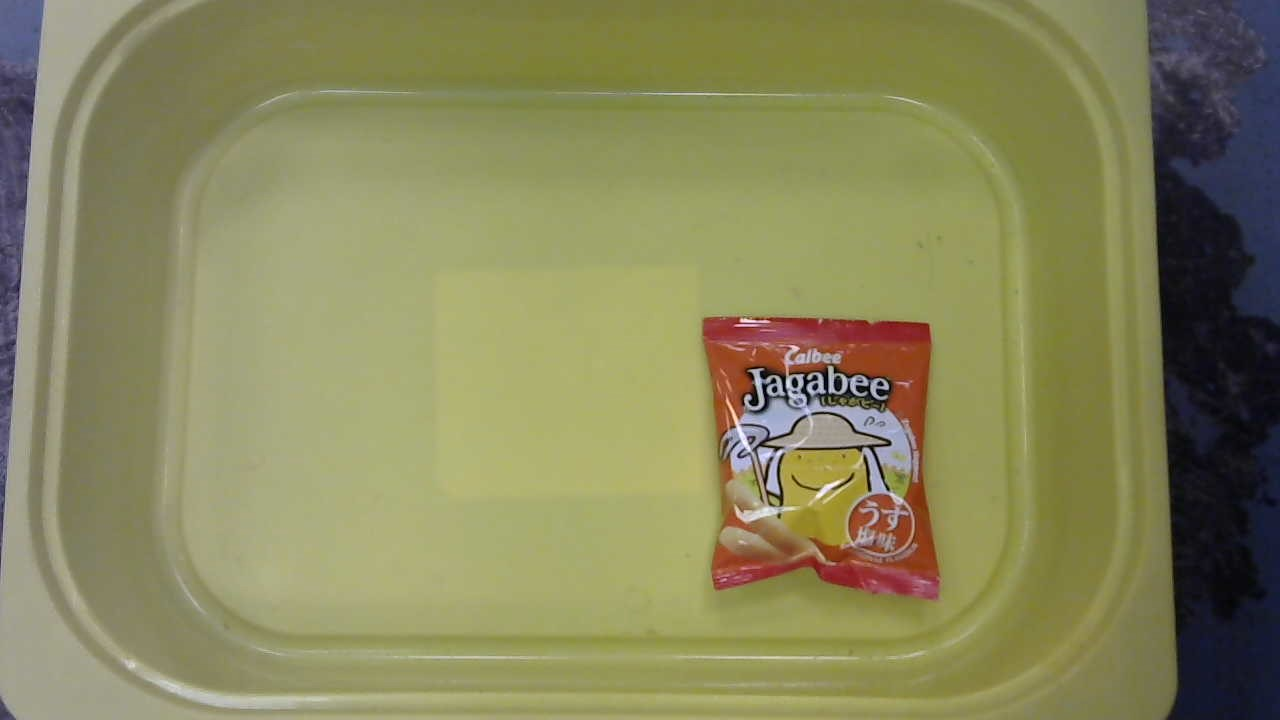JagabeeFarmer: (694, 310, 949, 613)
